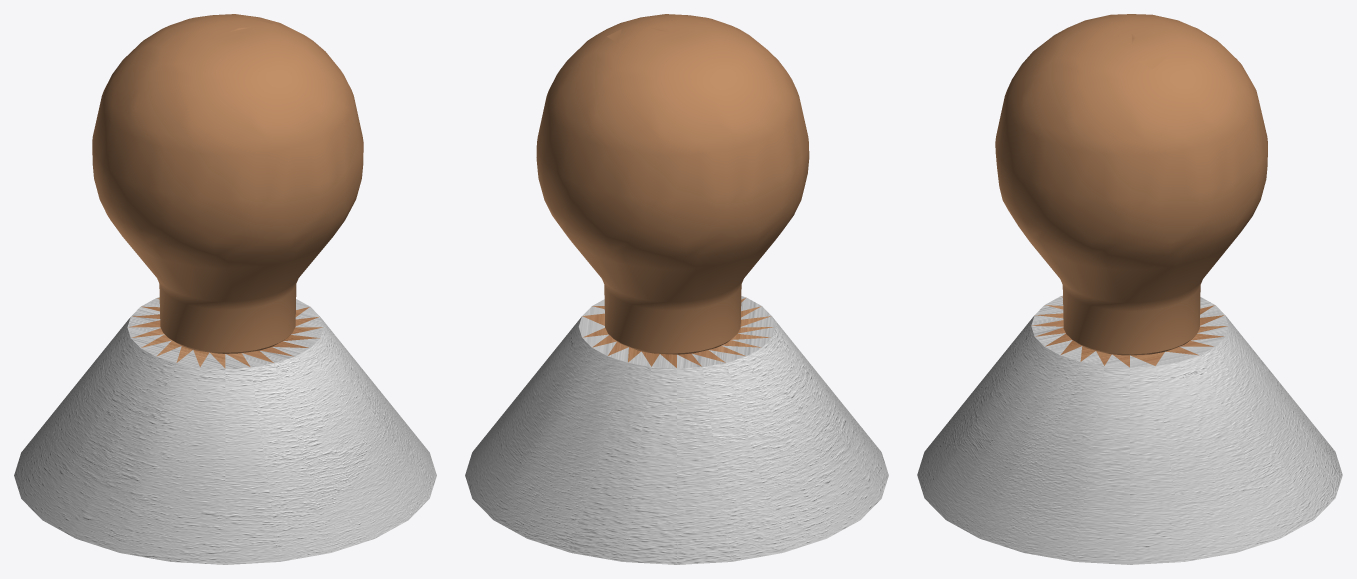
Rendered from ambouba.fbx.
3 views of the same model, side by side, from view 1: azimuth 30°, elevation 25°; view 2: azimuth 150°, elevation 25°; view 3: azimuth 270°, elevation 25° (orthographic).
Visible parts, largest first — view 1: Ww; view 2: Ww; view 3: Ww.
Part boxes in pixels (box(x1,y1,x2,y2)): Ww: box(14, 14, 436, 564); Ww: box(465, 14, 888, 564); Ww: box(917, 14, 1342, 564).
Bounding box in the file's own units: 106 × 106 × 122.
